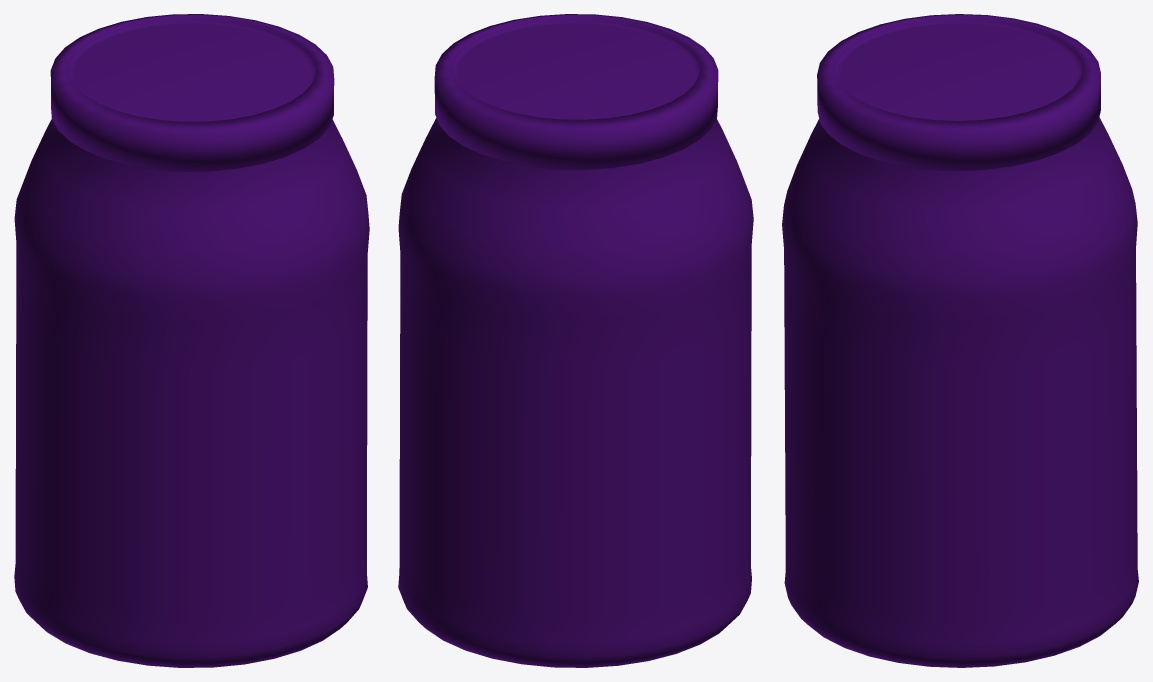
File: JellyJar.fbx
3 renders of one model, left to right at view 1: azimuth 30°, elevation 25°; view 2: azimuth 150°, elevation 25°; view 3: azimuth 270°, elevation 25°, orthographic.
Parts seen in each view (by area): view 1: JellyJar; view 2: JellyJar; view 3: JellyJar.
Boxes of the visible parts, x1,y1,x2,y2 form: JellyJar: (14, 14, 369, 667); JellyJar: (398, 14, 753, 667); JellyJar: (782, 14, 1138, 667).
Bounding box in the file's own units: 56.78 × 93.4 × 56.98.
